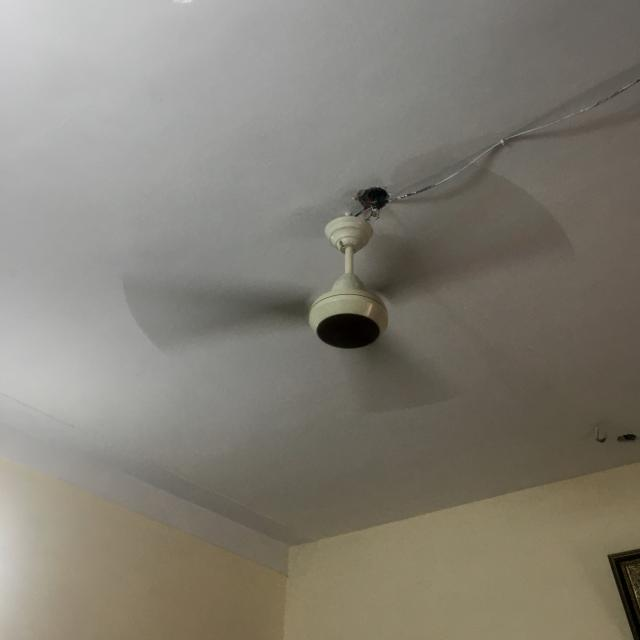on: (111, 148, 578, 425)
